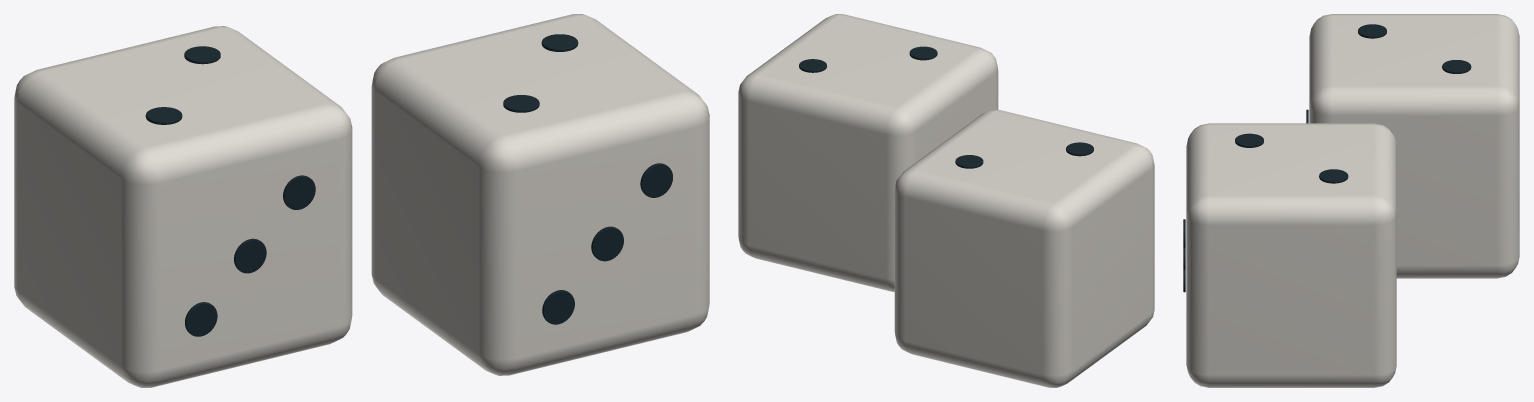
The model's file is entry-dice.glb.
3 renders of one model, left to right at view 1: azimuth 30°, elevation 25°; view 2: azimuth 150°, elevation 25°; view 3: azimuth 270°, elevation 25°, orthographic. The views are drawn at different scales.
Visible parts, largest first — view 1: Ivory dice.001, Ivory dice, Front pip.001, Front pip.004, Front pip.005, Front pip.003, Front pip, Front pip.002; view 2: Ivory dice, Ivory dice.001; view 3: Ivory dice.001, Ivory dice, Top pip.003, Top pip, Top pip.002, Top pip.001.
Part boxes in pixels (left/top/right/bottom): Ivory dice.001: left=371, top=14, right=709, bottom=375; Ivory dice: left=14, top=26, right=352, bottom=387; Front pip.001: left=234, top=238, right=266, bottom=273; Front pip.004: left=591, top=226, right=623, bottom=261; Front pip.005: left=640, top=163, right=672, bottom=197; Front pip.003: left=542, top=290, right=574, bottom=324; Front pip: left=185, top=302, right=217, bottom=336; Front pip.002: left=283, top=175, right=315, bottom=209; Ivory dice: left=894, top=110, right=1154, bottom=387; Ivory dice.001: left=738, top=14, right=998, bottom=291; Ivory dice.001: left=1186, top=123, right=1396, bottom=387; Ivory dice: left=1309, top=14, right=1519, bottom=278; Top pip.003: left=1319, top=169, right=1348, bottom=183; Top pip: left=1358, top=24, right=1386, bottom=38; Top pip.002: left=1235, top=133, right=1263, bottom=147; Top pip.001: left=1442, top=60, right=1471, bottom=73.
Bounding box in the file's own units: 4.99 × 2.27 × 3.58.
